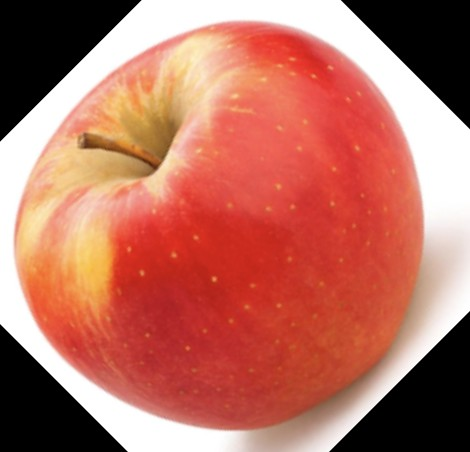fresh_apple: (18, 21, 423, 431)
